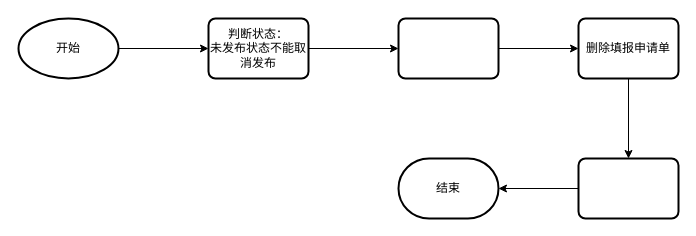
The diagram is 696 pixels wide and 236 high, and some of its shapes have lost their labels. The centre of each missing label's shape, as x and y in pixels:
"修改模板状态为：未发布" goes at [628,188].
"删除编排页面" goes at [448,48].
